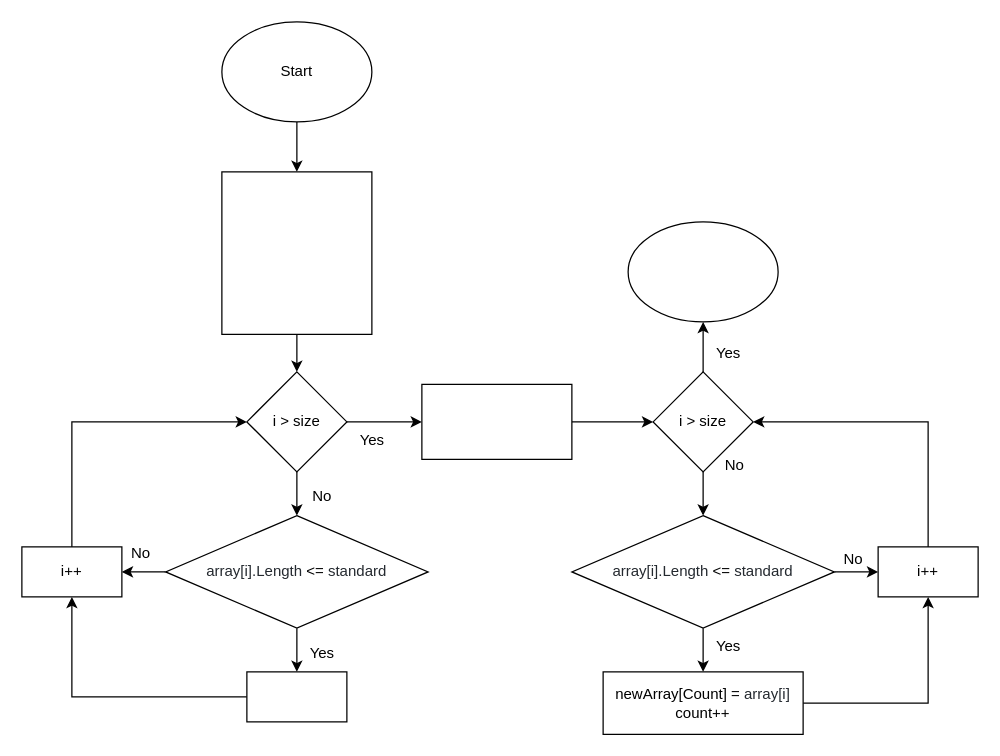
This 1000x756 diagram has some shape labels left out. Each missing label, with the centre of its shape:
"count++" belongs at [296,696].
"Finish" belongs at [702,271].
"newArray[count] i = 0" belongs at [496,421].
"standartSize = 3 count = 0 i = 0 size array[size] sizeNewArray" belongs at [296,252].
